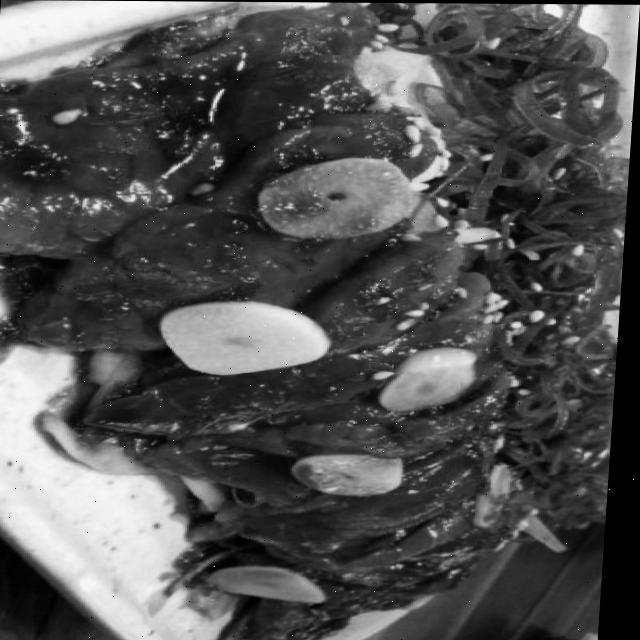刺身生食: (0, 11, 567, 632)
